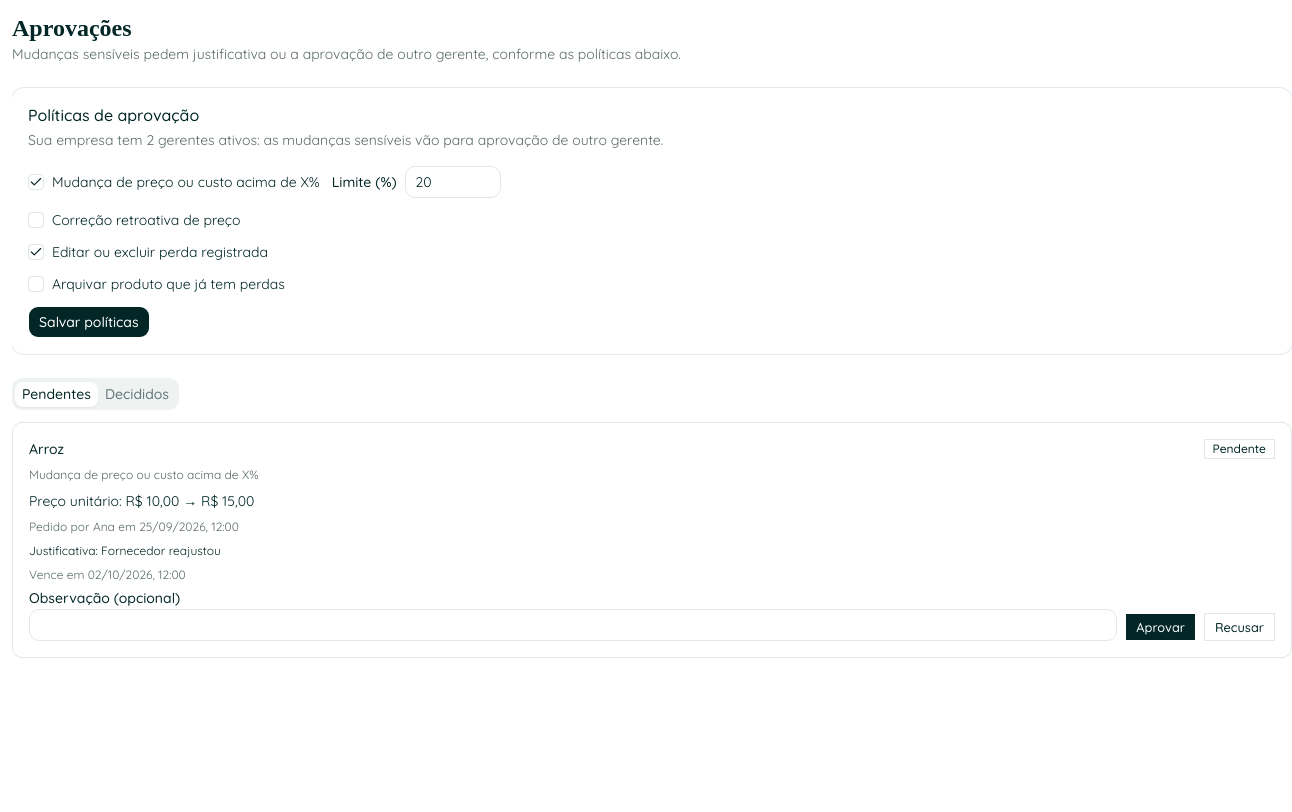
Test: AprovacoesClient › erro da API ao decidir aparece na tela
The width and height of the screenshot is (1292, 812).
Click the button "Aprovar" at (1161, 627), box left=1125, top=613, right=1196, bottom=641
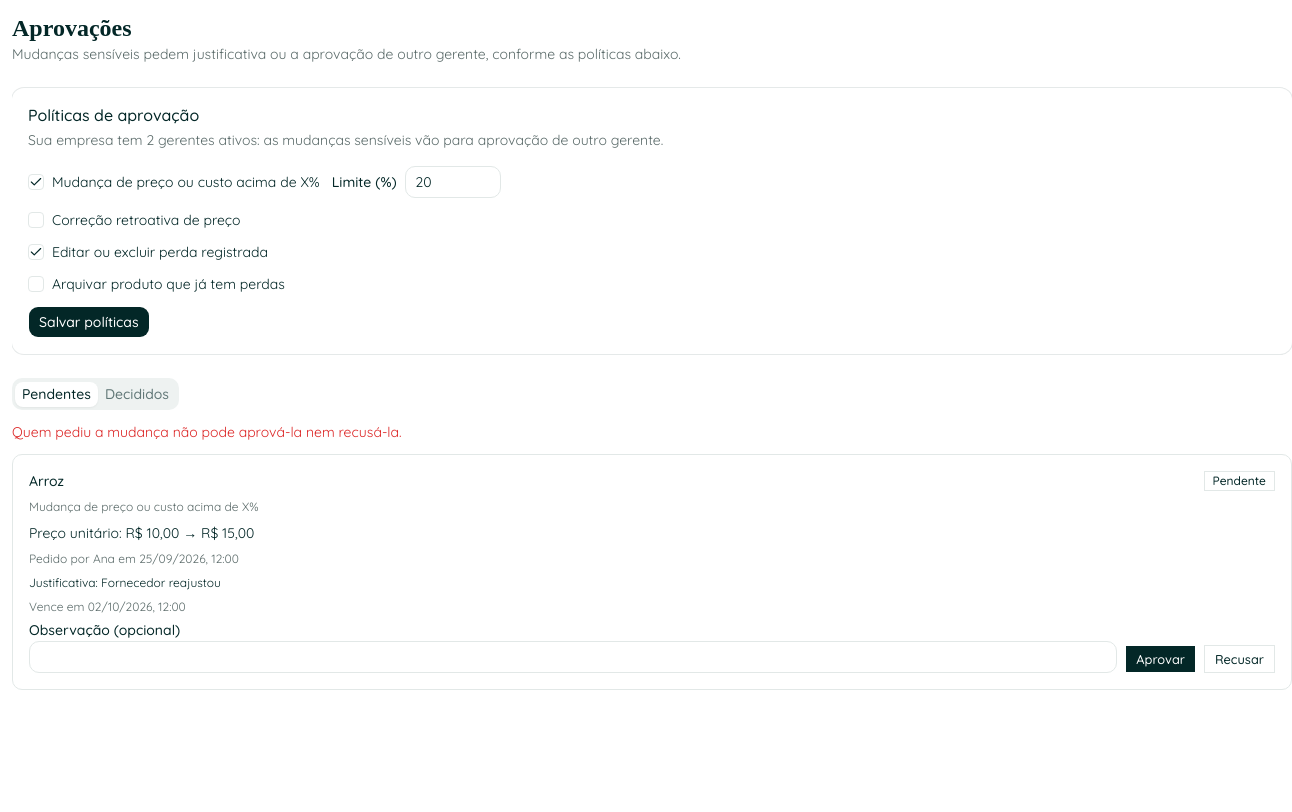
Expected: the text "Quem pediu a mudança não pode aprová-la nem recusá-la." is shown, left=12, top=423, right=402, bottom=441
